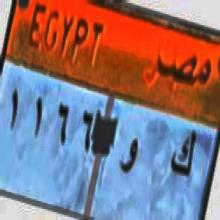1: (32, 93, 45, 147), (8, 86, 20, 140)
6: (58, 99, 69, 150), (81, 108, 93, 152)
kaaf: (171, 125, 196, 183)
waw: (120, 134, 139, 179)
